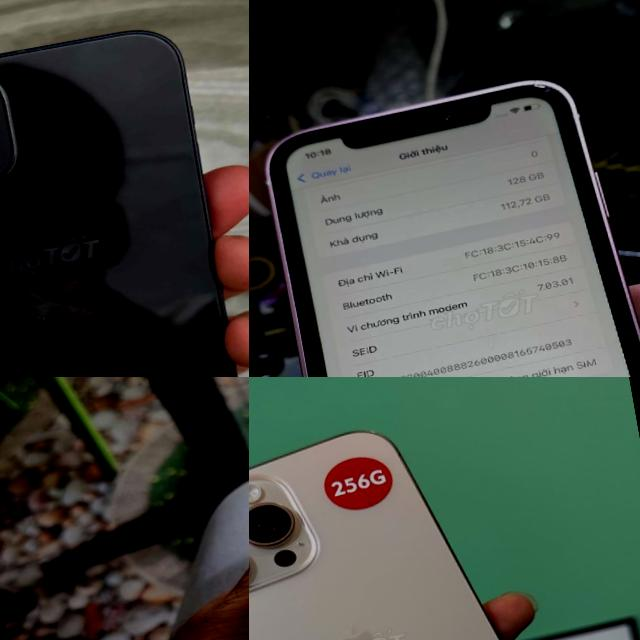gen_12_13: (0, 10, 249, 377), (179, 377, 249, 640)
gen_16: (249, 431, 501, 640)
gen_x_xs: (266, 81, 640, 377)
scratch: (526, 70, 569, 108)
